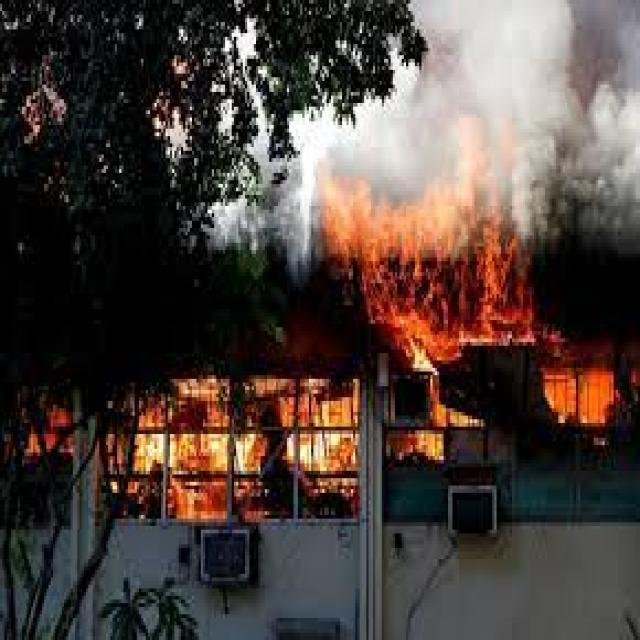Fire: (334, 186, 526, 350), (171, 390, 362, 480), (550, 352, 618, 430), (138, 424, 175, 502)
Smoke: (434, 0, 640, 224), (360, 96, 438, 188), (254, 185, 333, 268)
